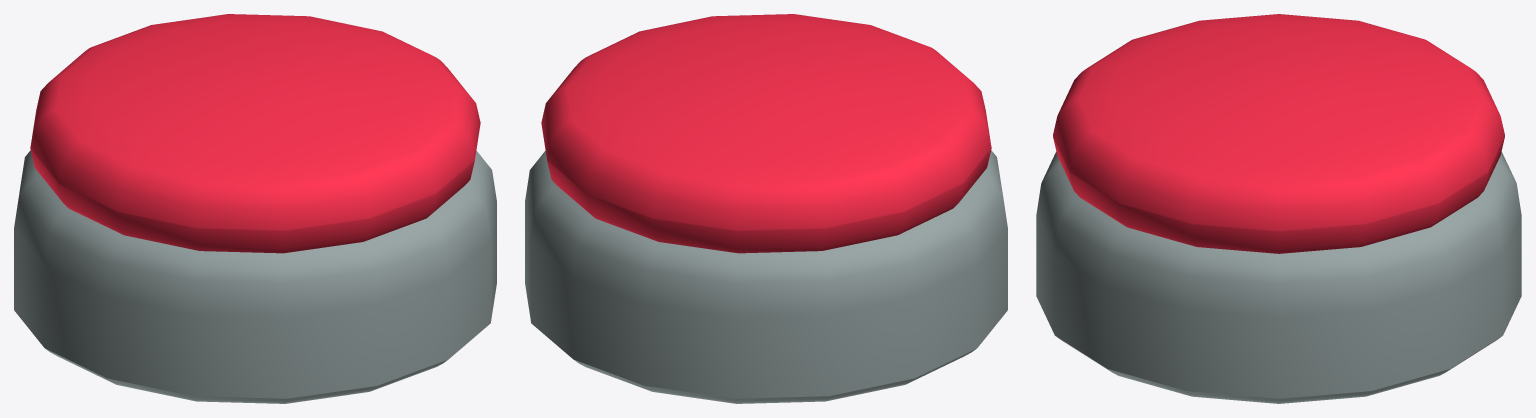
The model's file is button_red.fbx.
3 views of the same model, side by side, from view 1: azimuth 30°, elevation 25°; view 2: azimuth 150°, elevation 25°; view 3: azimuth 270°, elevation 25° (orthographic).
Parts seen in each view (by area): view 1: ChamferCyl003, Gengon003; view 2: ChamferCyl003, Gengon003; view 3: ChamferCyl003, Gengon003.
Part boxes in pixels (x1,y1,x2,y2): ChamferCyl003: (30,14,480,253); Gengon003: (14,150,496,403); ChamferCyl003: (541,14,991,253); Gengon003: (525,150,1007,403); ChamferCyl003: (1053,14,1504,253); Gengon003: (1036,151,1521,403).
Size of the model in its own units: 11.81 by 6.15 by 11.81.
